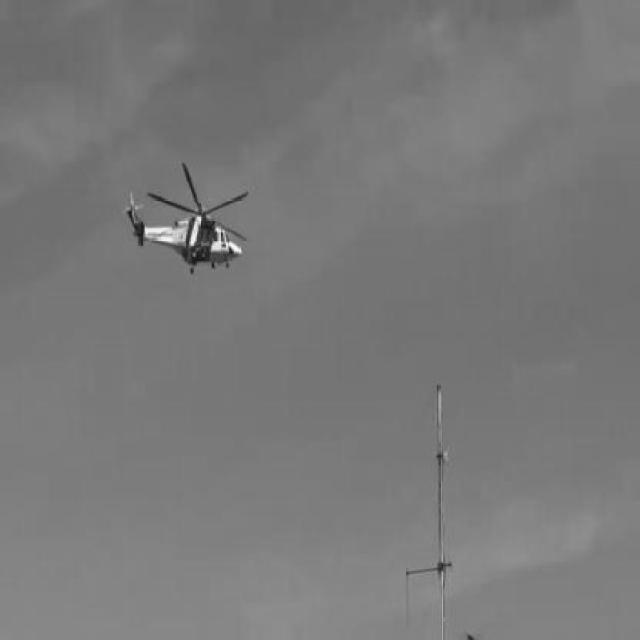helikopter: (124, 162, 252, 276)
